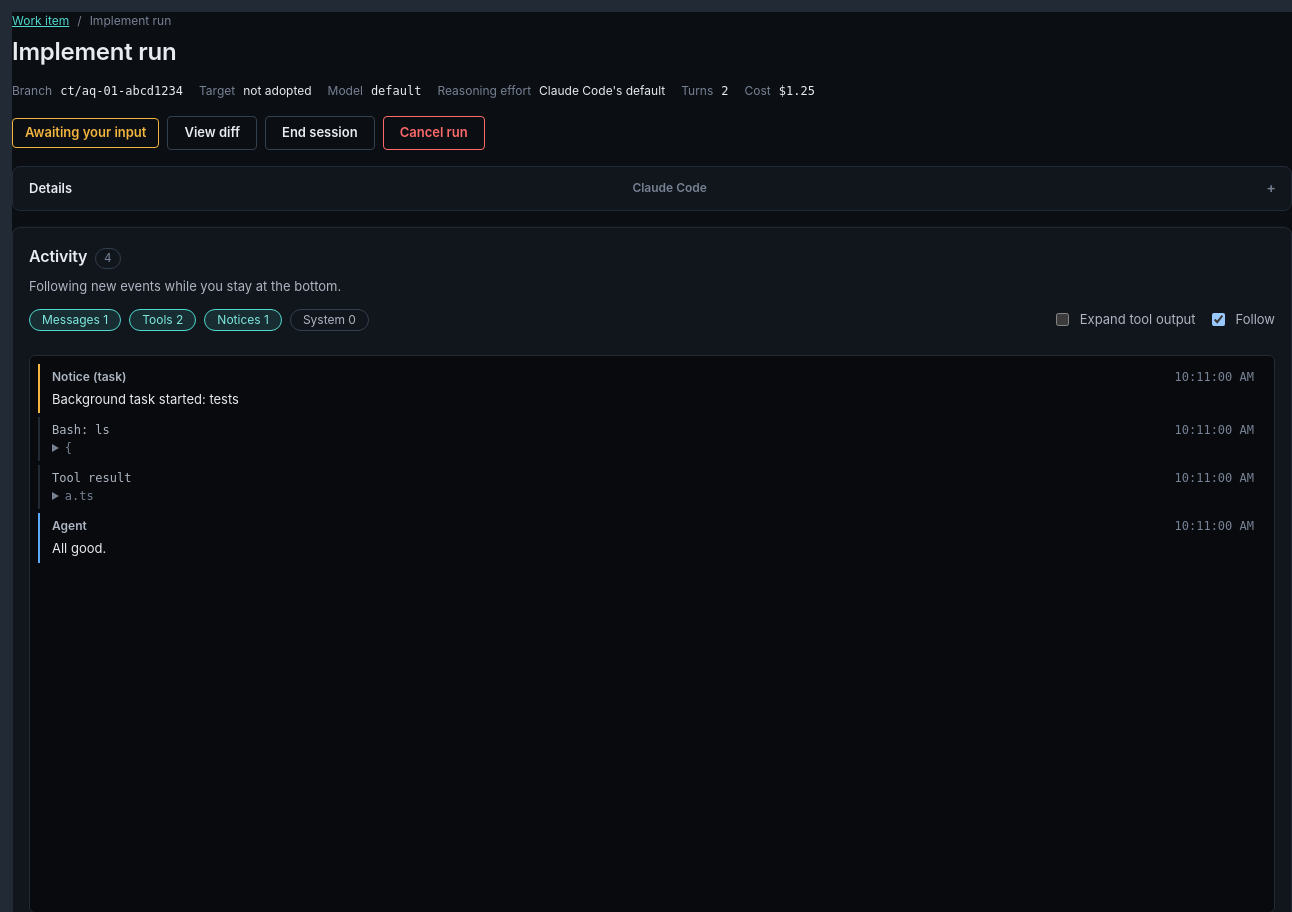
Scenario: RunPage › filters the feed by group and keeps tool output collapsed by default
Expected: the text "Background task started: tests" is shown, [52,391,239,407]
Expected: the element showing "{" is shown, [65,441,72,455]
Click the button "Notices 1" at [243, 320], box [204,309,282,331]
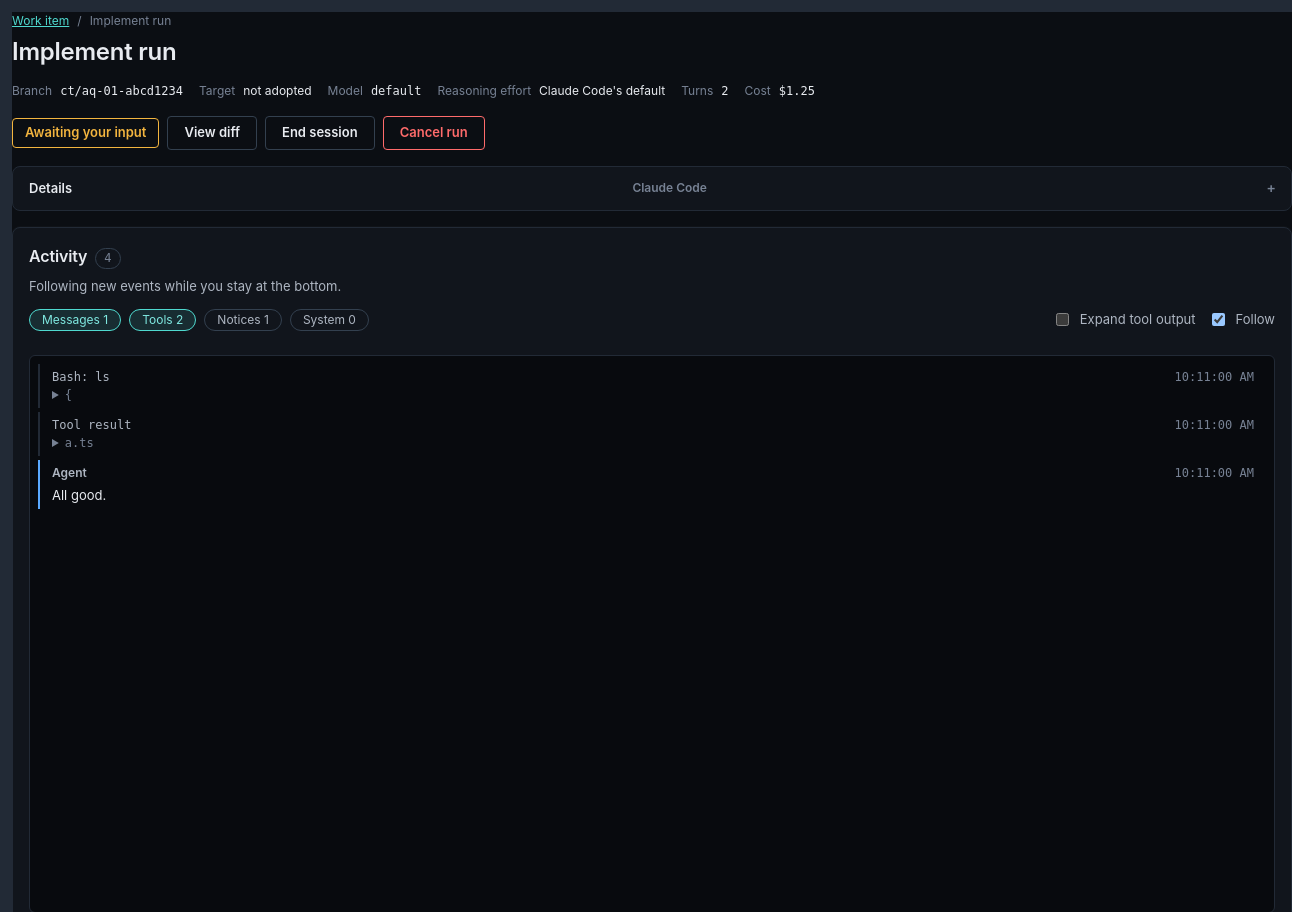
Expected: the text "Background task started: tests" is gone
Click the button "Tools 2" at [163, 320], box [129,309,196,331]
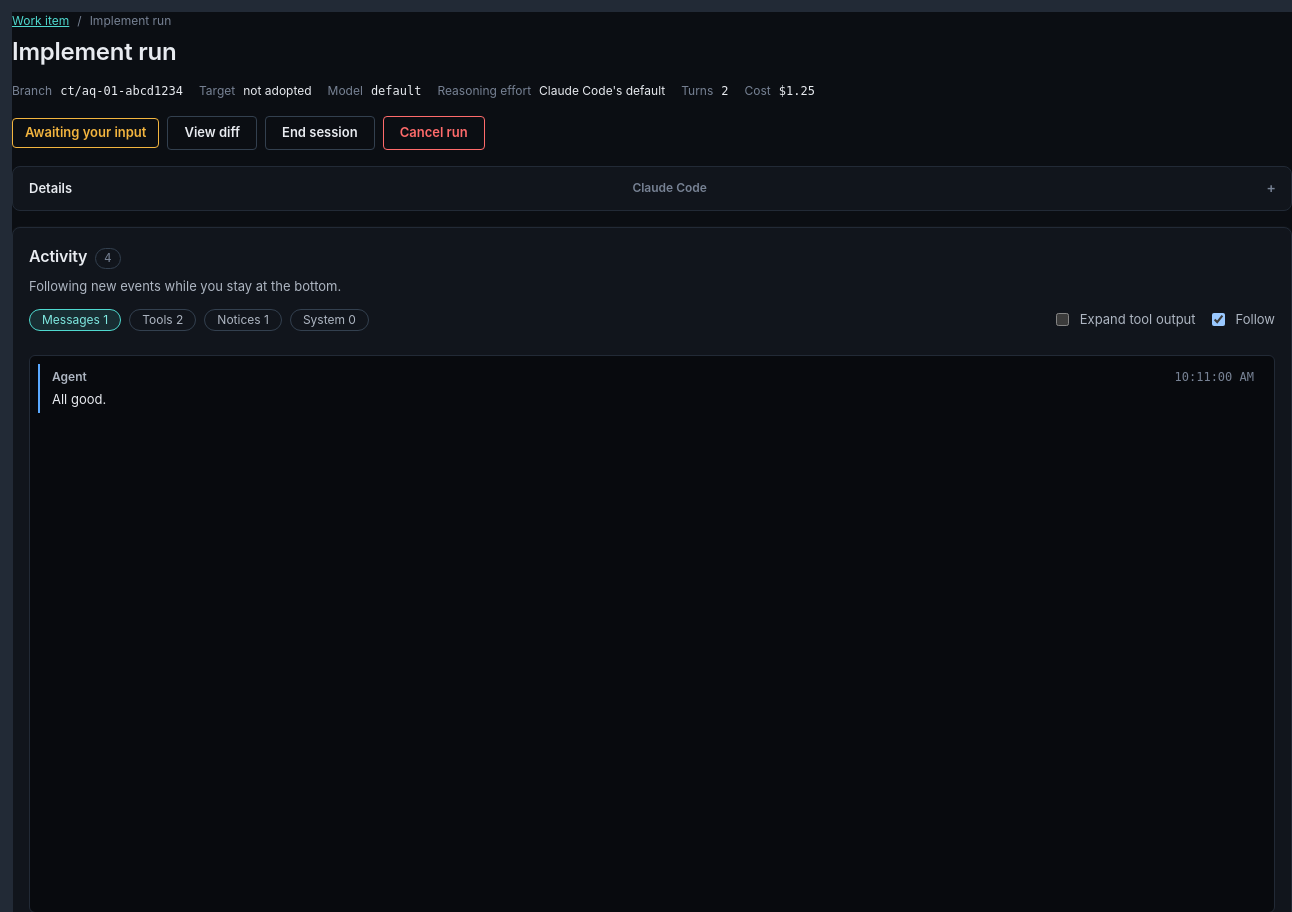
Expected: the text "All good." is shown, [52,391,106,407]
Expected: the text "Bash: ls" is gone
